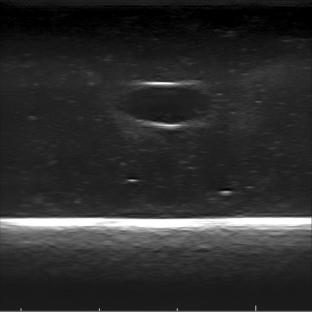vessel: (117, 80, 212, 131)
